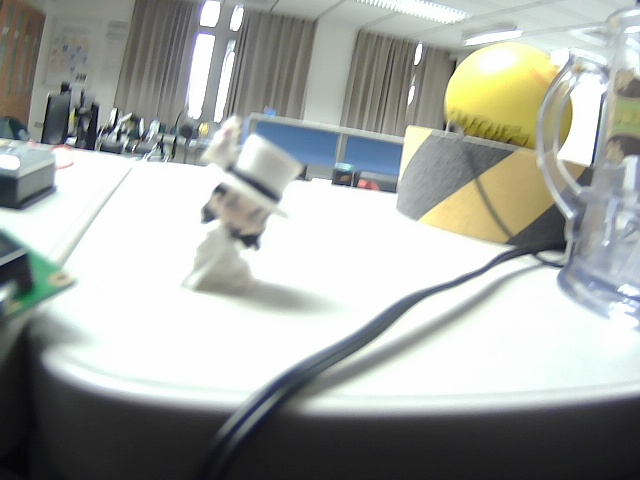lucci: (180, 106, 314, 302)
